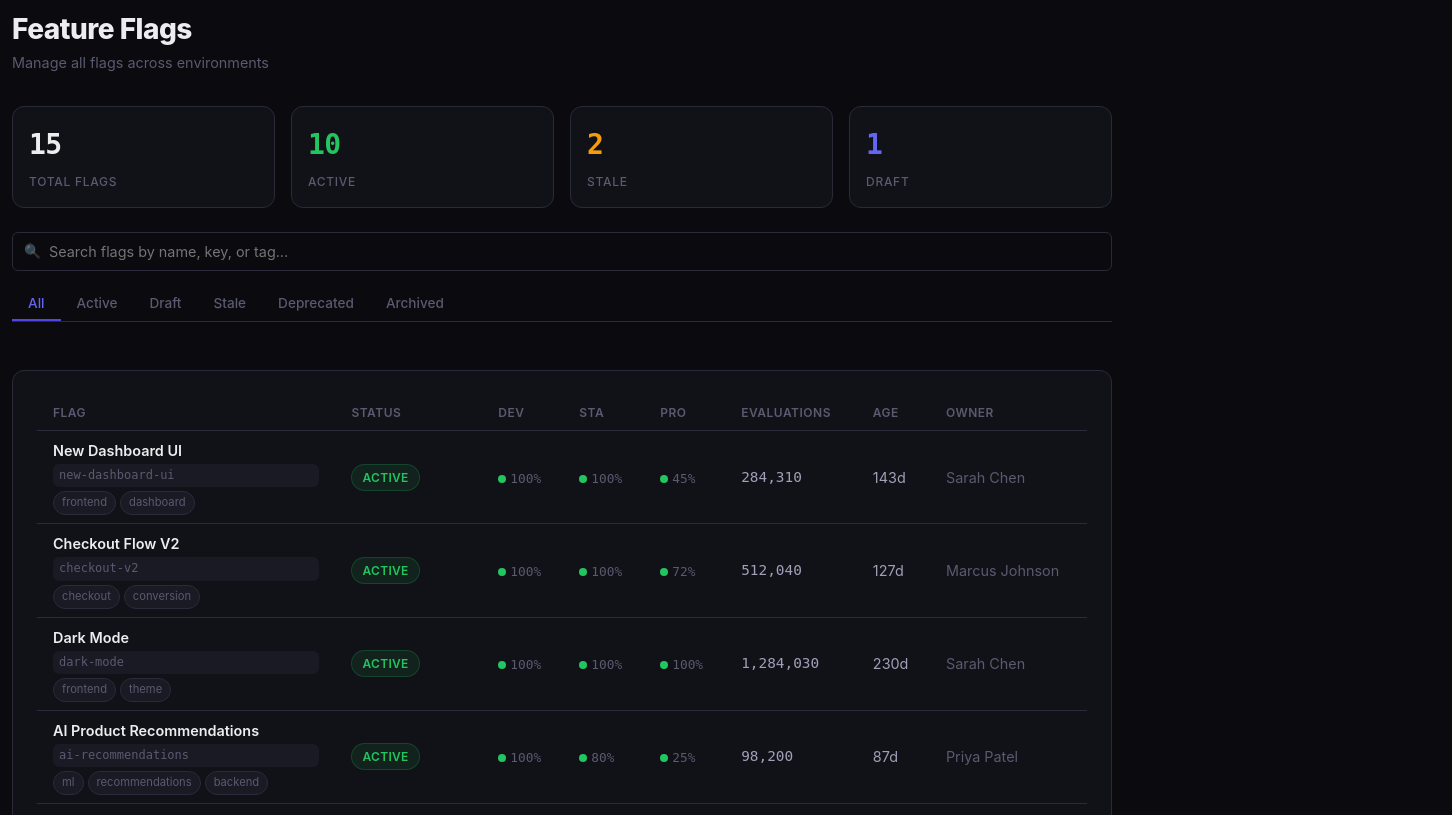
Test: DashboardPage › filters flags by status tab
Click the "Stale" tab button specifically
Click the button "Stale". click: (230, 304)
box: [198, 287, 262, 321]
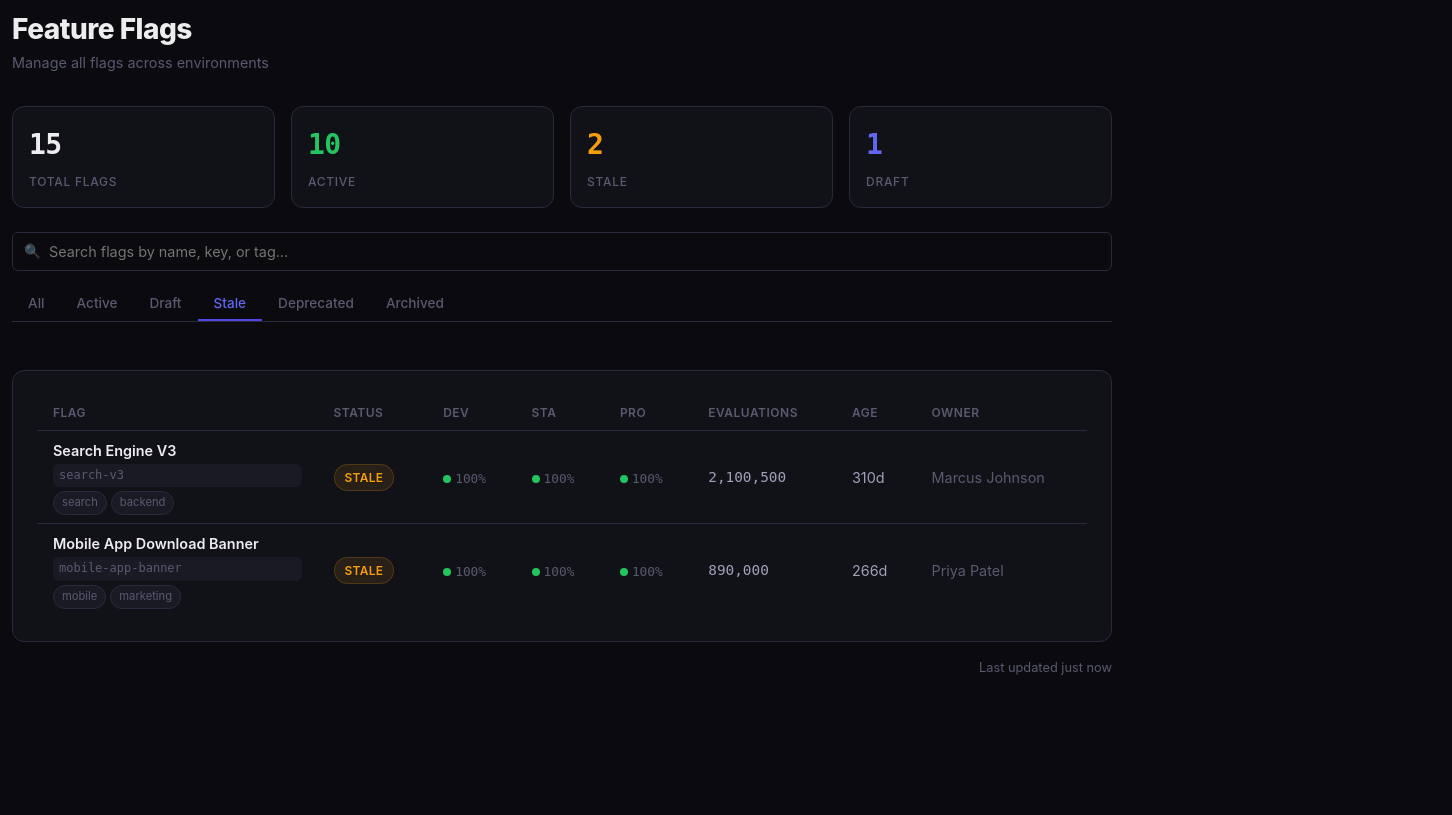
expect the text "Search Engine V3" is shown: met, box [53, 442, 176, 459]
expect the link "New Dashboard UI" is gone: met
